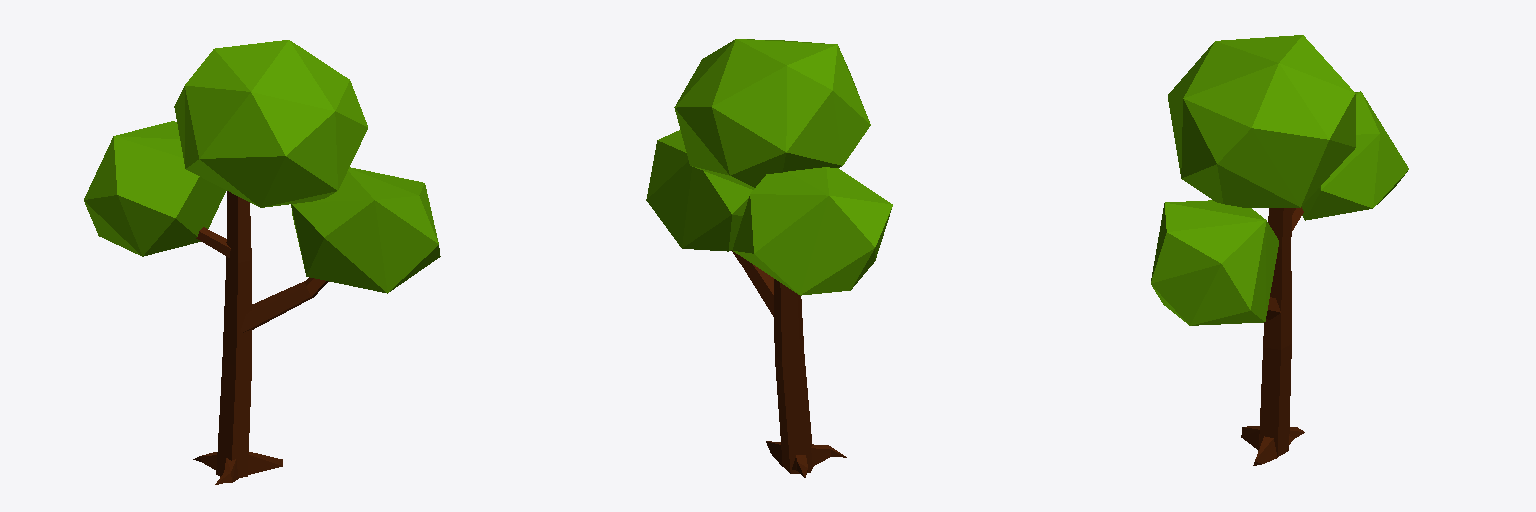
Rendered from tree.obj.
3 renders of one model, left to right at view 1: azimuth 30°, elevation 25°; view 2: azimuth 150°, elevation 25°; view 3: azimuth 270°, elevation 25°, orthographic.
Visible parts, largest first — view 1: tree01:Mesh; view 2: tree01:Mesh; view 3: tree01:Mesh.
Boxes of the visible parts, x1=… form: tree01:Mesh: x1=84, y1=40, x2=440, y2=484; tree01:Mesh: x1=646, y1=39, x2=892, y2=477; tree01:Mesh: x1=1151, y1=35, x2=1408, y2=465.
Size of the model in its own units: 3.3 by 4.7 by 2.64.